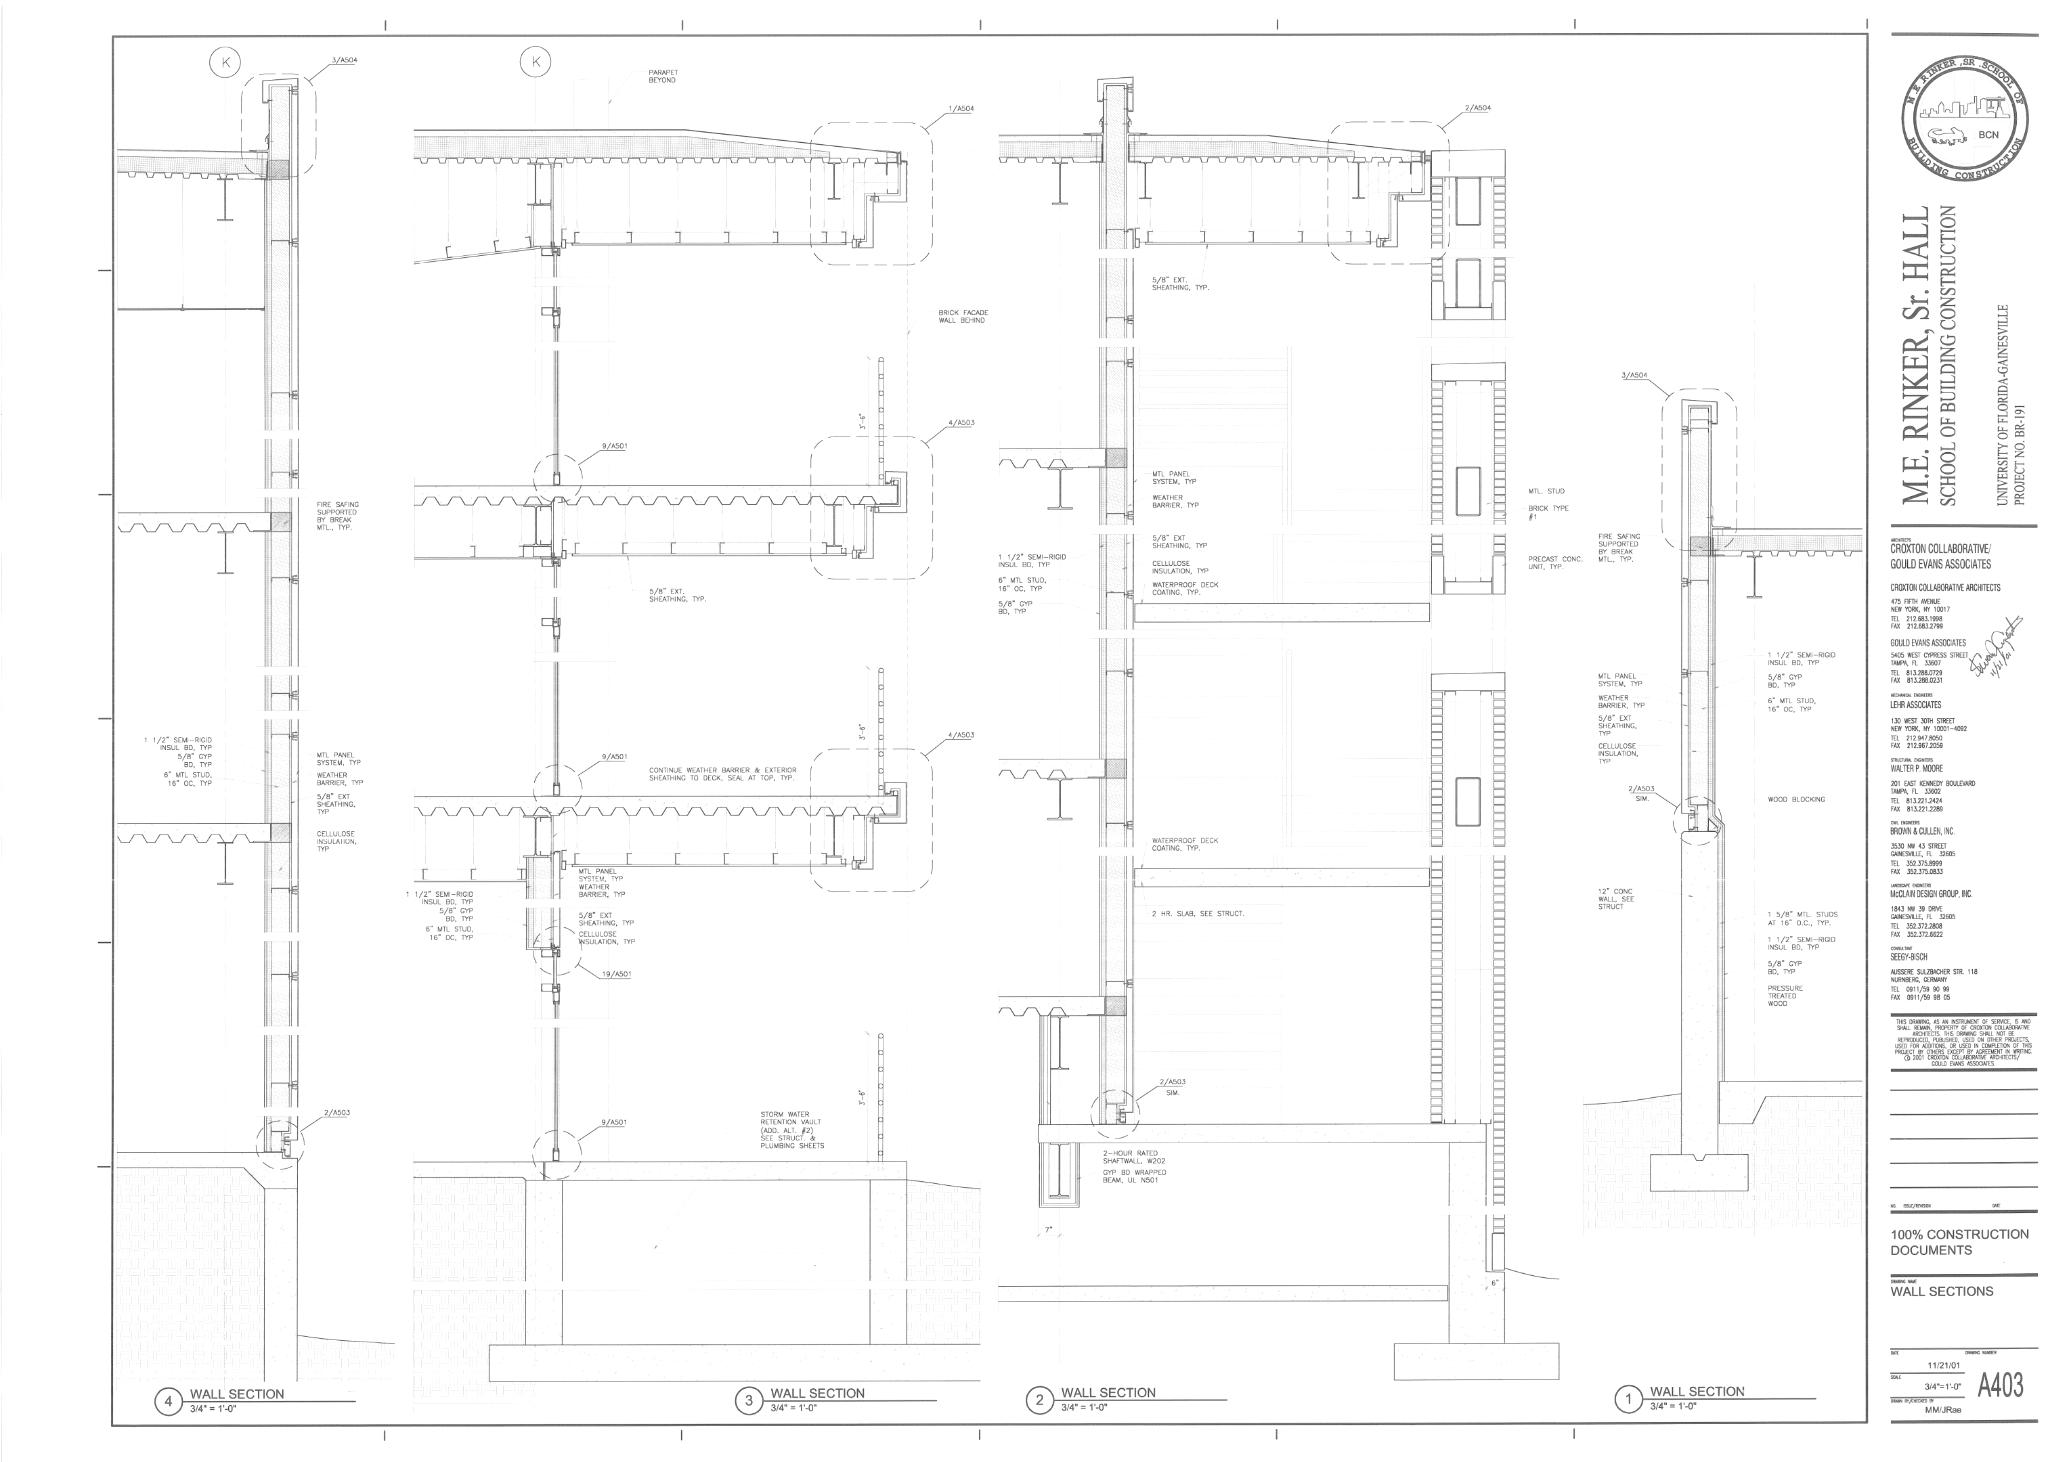detail: (1619, 366, 1670, 399), (926, 101, 975, 131), (309, 53, 359, 81), (1441, 101, 1494, 127), (927, 418, 976, 446), (1627, 781, 1676, 809), (928, 729, 976, 757), (579, 1116, 629, 1142), (579, 440, 630, 465), (1137, 1076, 1188, 1101), (580, 958, 633, 982), (300, 1106, 353, 1130), (580, 752, 628, 776)
title: (1024, 1383, 1230, 1417), (152, 1385, 358, 1419), (1613, 1383, 1820, 1416), (733, 1385, 939, 1418)
